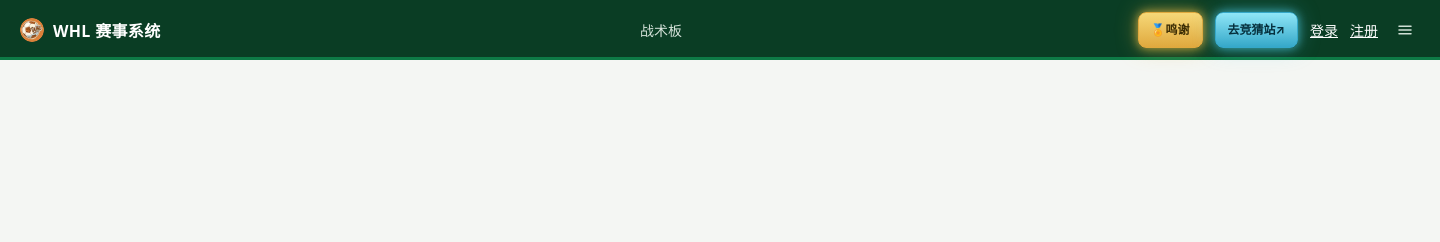
Scenario: 顶栏 ≡ 菜单（时区 + 登出收纳） › 点 UTC 档：写 whl.tz 偏好、派发 whl:tz-change、弹层收起、按钮 title 跟着变
This screenshot has width=1440, height=242.
Click the button with class "user-menu-btn": {"x": 1405, "y": 30} [1390,17,1420,43]
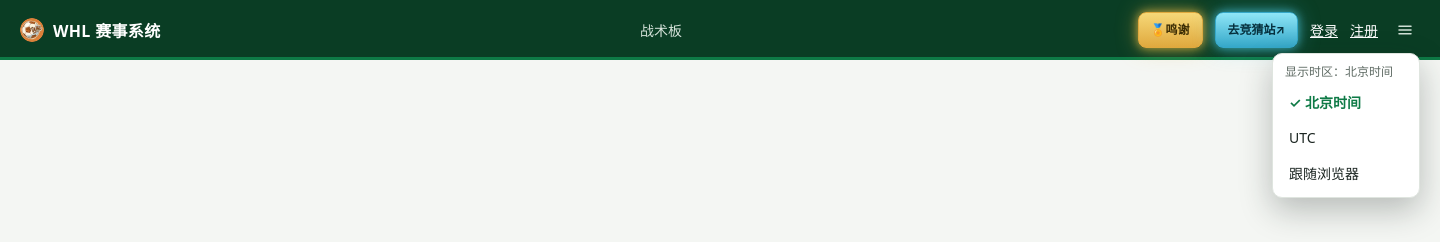
Click the menu item "UTC": {"x": 1346, "y": 138} [1279,120,1413,155]
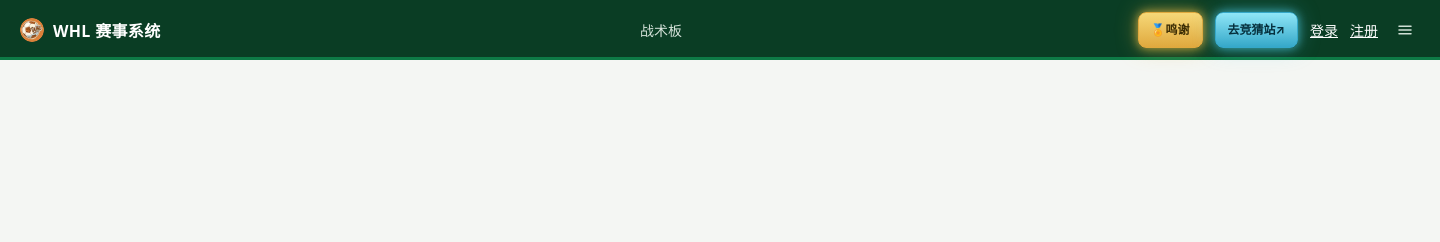
Check: the menu with class "user-menu" is gone
